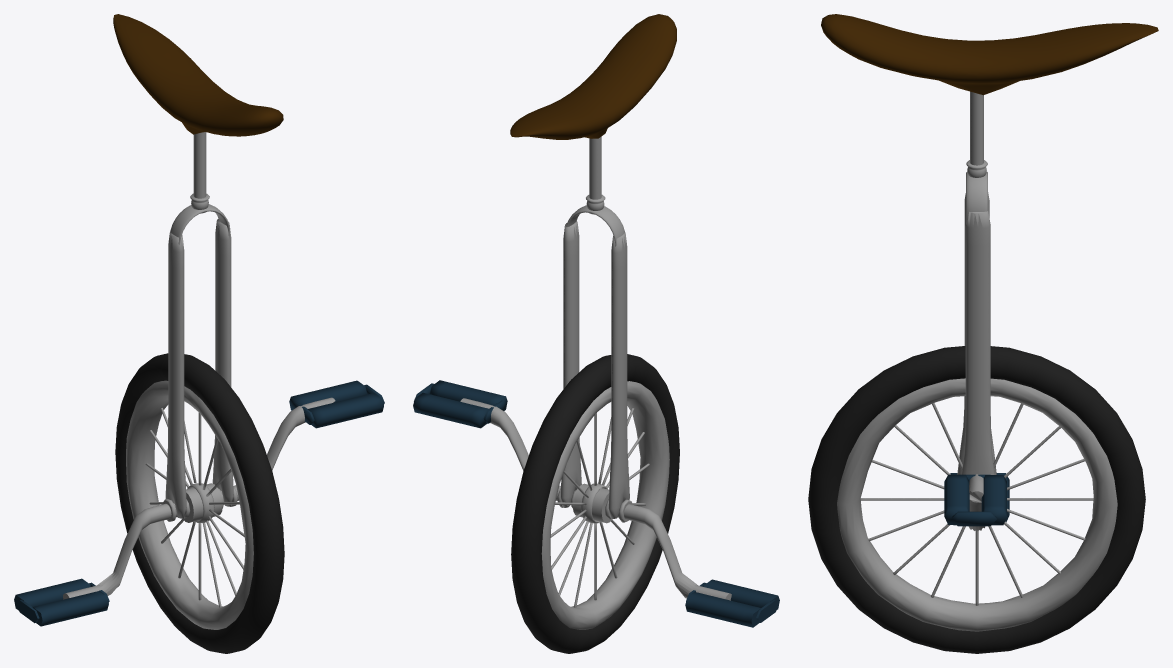
File: Unicycle.FBX
The picture shows the model from 3 angles, left to right: view 1: azimuth 30°, elevation 25°; view 2: azimuth 150°, elevation 25°; view 3: azimuth 270°, elevation 25°; orthographic projection. The views are drawn at different scales.
Visible parts, largest first — view 1: tire, rim_outter, seat, pedel_2, frame2, frame1, axel_petal, spoke_16, seat_rod, inner_axel, frame3; view 2: tire, rim_outter, seat, pedel_2, frame2, frame1, axel_petal, spoke_16, seat_rod, inner_axel, frame3; view 3: tire, rim_outter, seat, frame1, spoke_16, pedel_2, seat_rod, frame3, frame2, axel_petal.
Part boxes in pixels (box(x1,y1,x2,y2)): tire: box(115, 353, 284, 653); rim_outter: box(126, 380, 253, 629); seat: box(113, 14, 283, 136); pedel_2: box(14, 380, 384, 626); frame2: box(165, 231, 186, 518); frame1: box(212, 219, 233, 506); axel_petal: box(63, 397, 335, 599); spoke_16: box(145, 408, 244, 607); seat_rod: box(193, 132, 206, 198); inner_axel: box(183, 483, 222, 522); frame3: box(170, 204, 230, 244); tire: box(511, 354, 679, 653); rim_outter: box(541, 381, 669, 629); seat: box(510, 14, 676, 139); pedel_2: box(413, 380, 779, 627); frame2: box(608, 233, 629, 518); frame1: box(560, 221, 581, 507); axel_petal: box(460, 398, 731, 600); spoke_16: box(551, 408, 649, 607); seat_rod: box(589, 136, 601, 199); inner_axel: box(572, 483, 612, 523); frame3: box(566, 205, 625, 246); tire: box(808, 346, 1145, 653); rim_outter: box(837, 378, 1117, 631); seat: box(821, 14, 1158, 95); frame1: box(961, 211, 994, 474); spoke_16: box(860, 403, 1093, 605); pedel_2: box(944, 473, 1009, 526); seat_rod: box(970, 91, 983, 165); frame3: box(966, 172, 987, 224); frame2: box(957, 192, 996, 474); axel_petal: box(968, 474, 985, 531).
Bounding box in the file's own units: 4.78 × 7.66 × 3.83.
